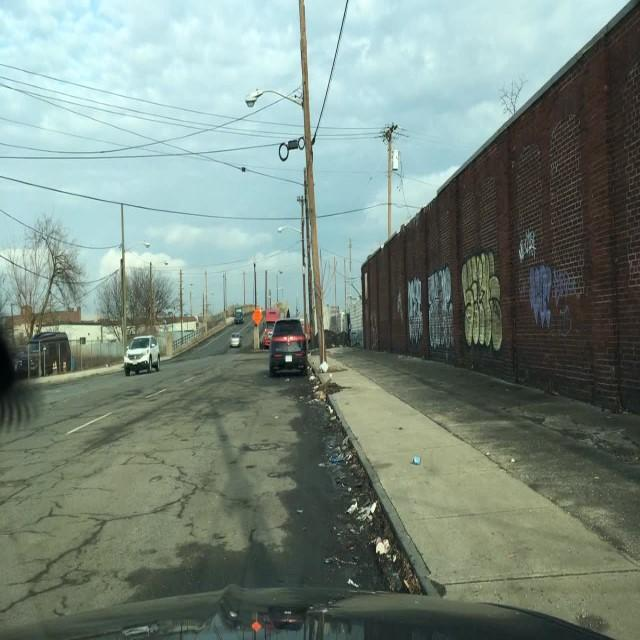normal: (266, 318, 308, 375), (123, 335, 160, 375), (230, 335, 243, 349)
